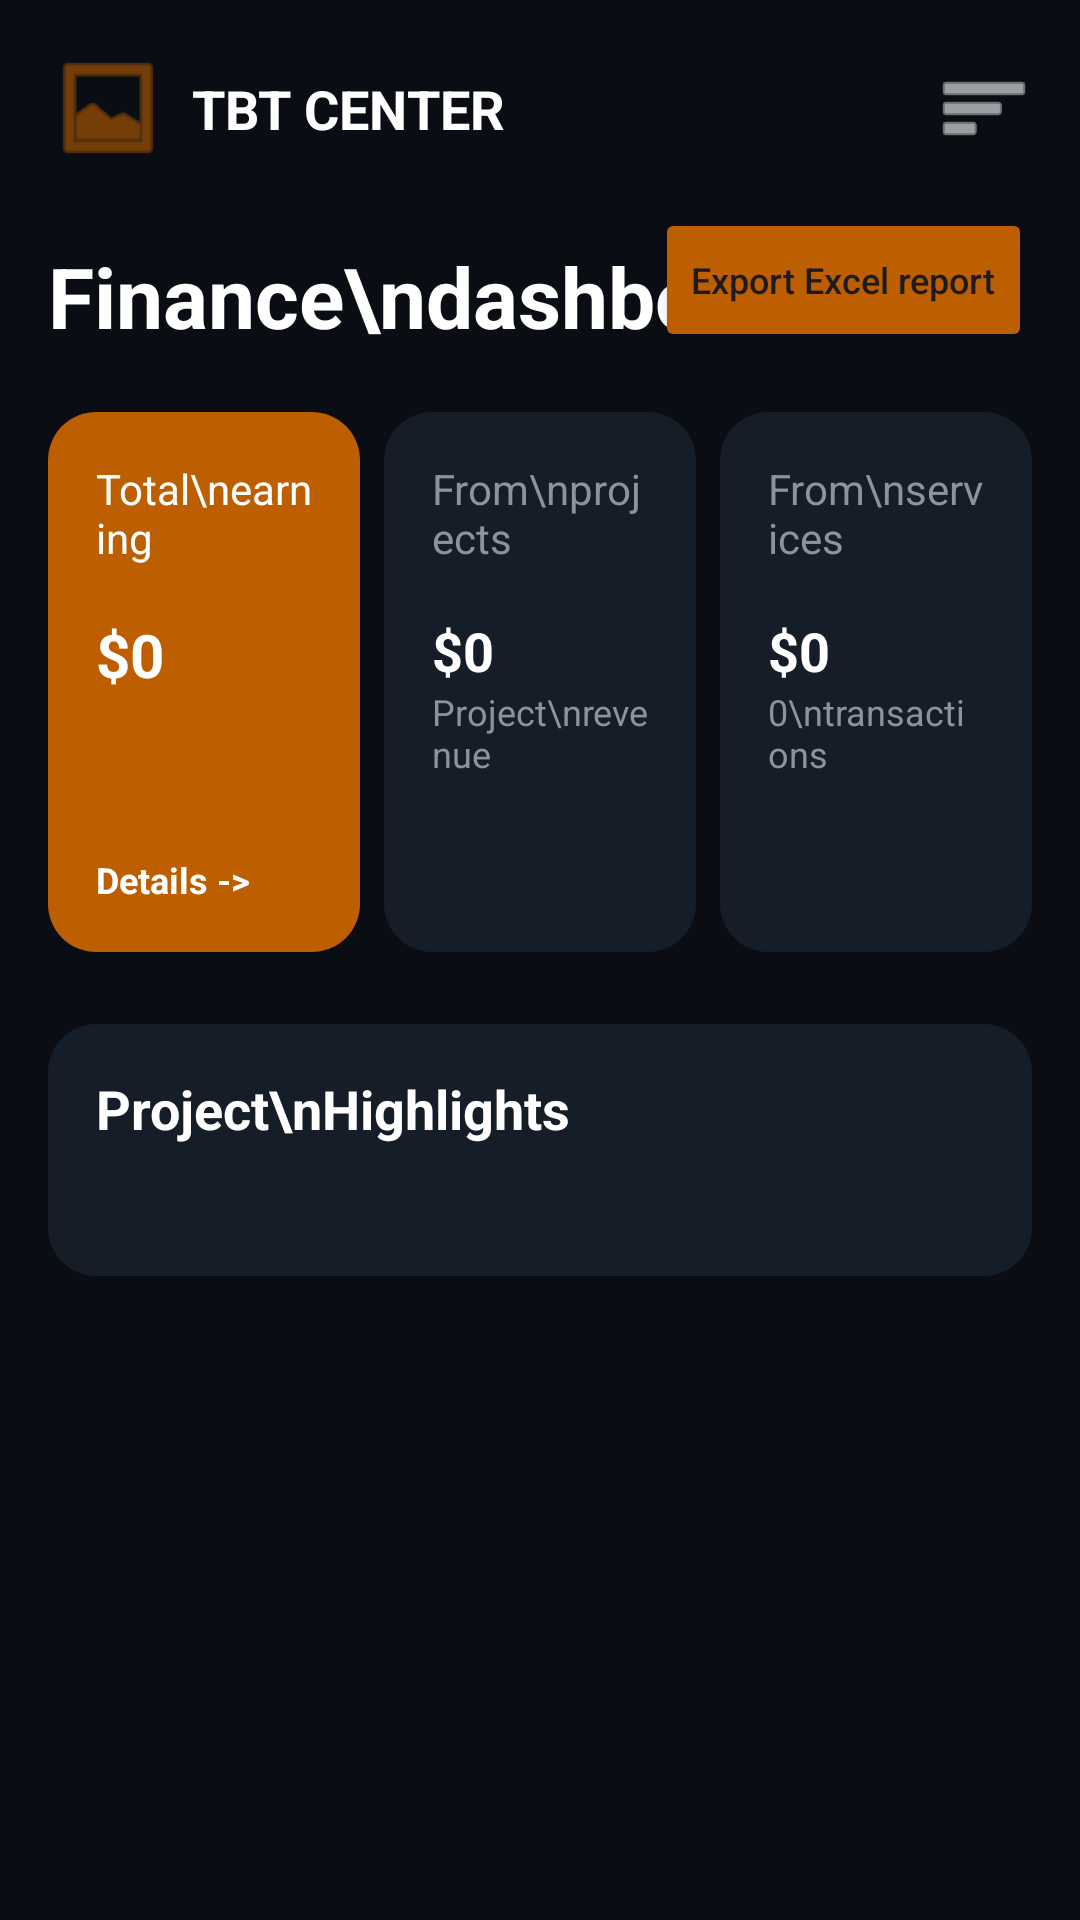

Named icons in this screenshot (1080x1920) and their centers, (x=x, y=y):
Menu: (x=984, y=108)
